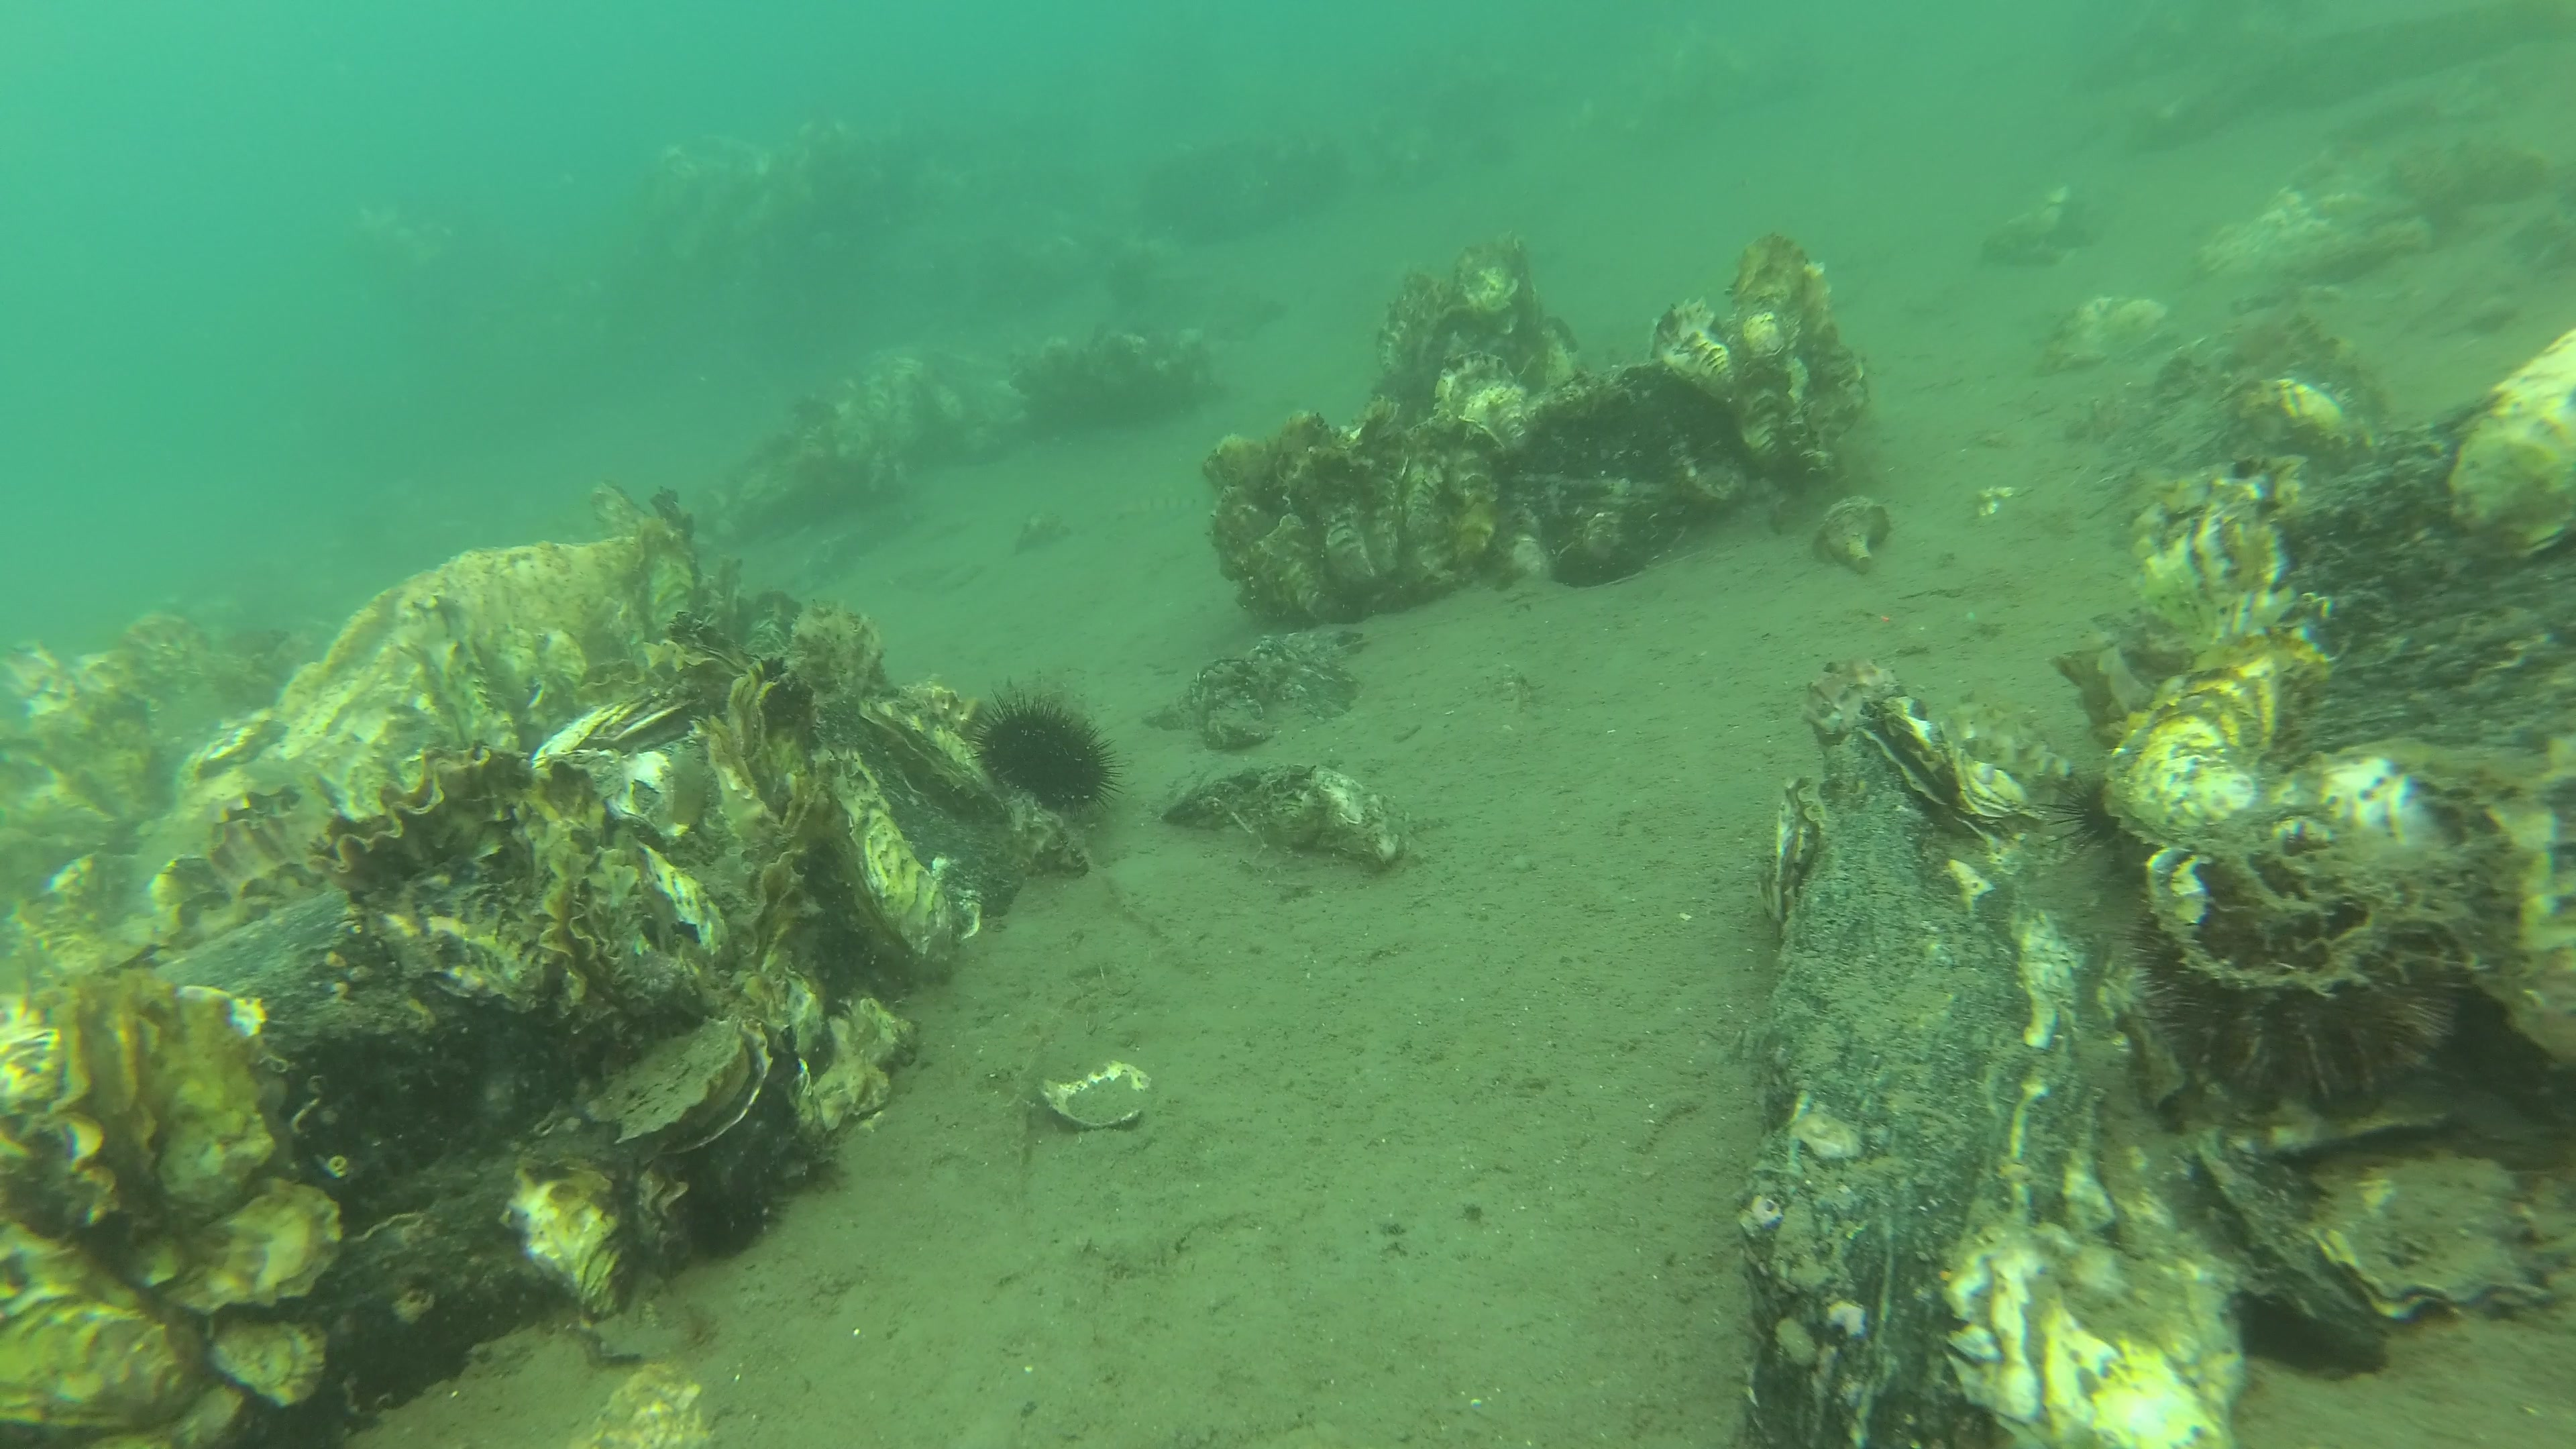echinus: (2114, 892, 2465, 1104), (959, 686, 1127, 821), (2035, 771, 2127, 853), (1102, 246, 1182, 311)
